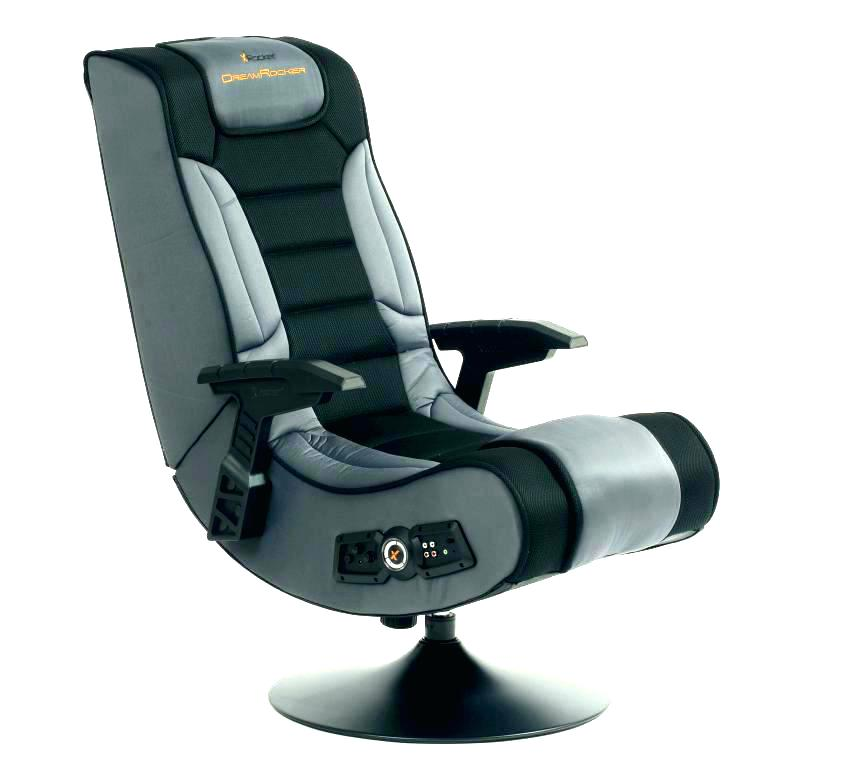chairs: (75, 33, 722, 745)
